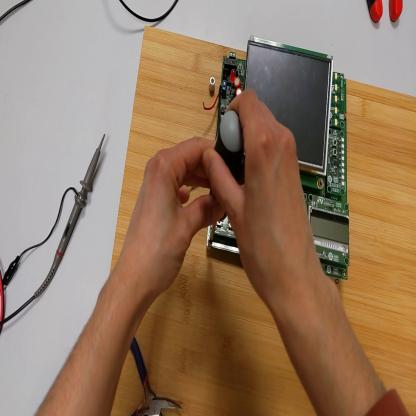hand: (203, 75, 314, 296), (128, 127, 227, 291)
low voltage board: (204, 36, 351, 282)
oscilloscope probe tip: (34, 134, 108, 305)
pliers: (131, 342, 183, 416), (367, 2, 406, 28)
screwdriver-: (210, 111, 246, 245)
working area: (111, 26, 416, 416)
